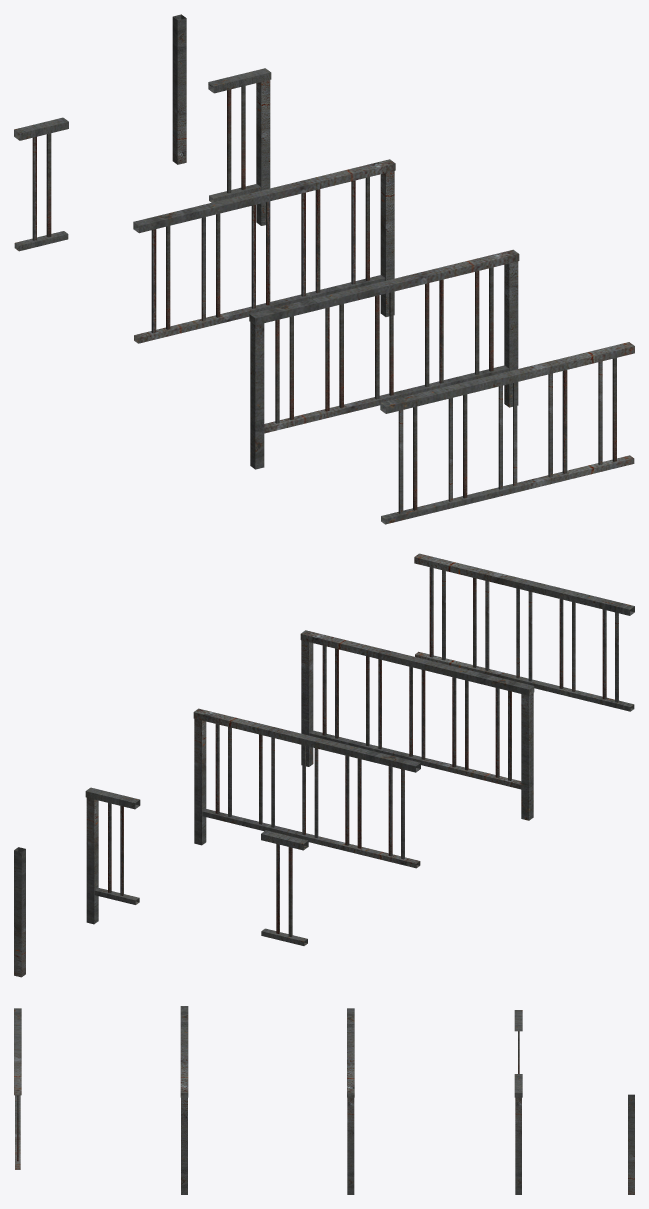
The model's file is MetalRailingAssetPack.fbx.
3 views of the same model, one above another, from view 1: azimuth 30°, elevation 25°; view 2: azimuth 150°, elevation 25°; view 3: azimuth 270°, elevation 25° (orthographic). The views are drawn at different scales.
Visible parts, largest first — view 1: Cylinder, Cylinder.001, Cylinder.004, Cylinder.003, Cylinder.002, Cylinder.005; view 2: Cylinder, Cylinder.001, Cylinder.004, Cylinder.003, Cylinder.002, Cylinder.005; view 3: Cylinder, Cylinder.001, Cylinder.004, Cylinder.003, Cylinder.005.
Boxes of the visible parts, bbox=[...] form: Cylinder: bbox=[249, 249, 519, 469]; Cylinder.001: bbox=[133, 159, 395, 343]; Cylinder.004: bbox=[380, 342, 634, 524]; Cylinder.003: bbox=[208, 68, 271, 225]; Cylinder.002: bbox=[14, 117, 68, 251]; Cylinder.005: bbox=[172, 14, 186, 164]; Cylinder: bbox=[300, 630, 534, 820]; Cylinder.001: bbox=[193, 708, 420, 868]; Cylinder.004: bbox=[414, 553, 634, 711]; Cylinder.003: bbox=[85, 787, 140, 924]; Cylinder.002: bbox=[261, 830, 308, 945]; Cylinder.005: bbox=[14, 847, 25, 977]; Cylinder: bbox=[180, 1006, 188, 1194]; Cylinder.001: bbox=[347, 1008, 354, 1194]; Cylinder.004: bbox=[14, 1008, 21, 1169]; Cylinder.003: bbox=[514, 1074, 522, 1194]; Cylinder.005: bbox=[628, 1094, 634, 1194].
Size of the model in its own units: 370 by 203 by 1119.
Materials: 1 (1 with a texture image).
